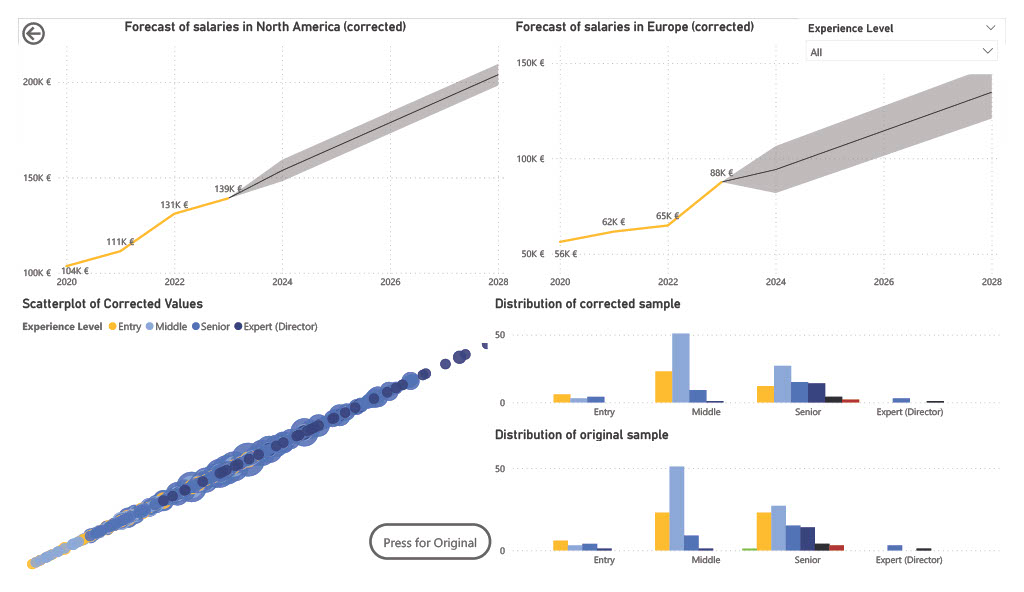

Layout of this report page (visuals, bound fields, positions):
{"tool":"powerbi","page":{"name":"Statistical Analysis","canvas":[1280,720],"ordinal":3},"visuals":[{"type":"clusteredColumnChart","title":"Distribution of corrected sample","fields":{"Category":["Final Table.Experience Level"],"Series":["Final Table.Salary in Euro (bins)"],"Y":["CountNonNull(Final Table.Salary in Euro (bins))"]},"box":[613.3,360,666.7,168.3],"z":2000},{"type":"clusteredColumnChart","title":"Distribution of original sample","fields":{"Category":["Salaries.Experience Level"],"Series":["Salaries.Salary in Euro (bins)"],"Y":["CountNonNull(Salaries.Salary in Euro (bins))"]},"box":[612.5,528.8,666.2,191.2],"z":3000},{"type":"scatterChart","title":"Scatterplot of Corrected Values","fields":{"Category":["Final Table.Salary in Euro"],"Series":["Final Table.Experience Level"],"X":["Median(Final Table.Salary in Euro)"],"Y":["Median(Final Table.Salary in Euro)"],"Size":["CountNonNull(Final Table.Salary in Euro)"]},"box":[0,359.9,612.8,359.9],"z":4000},{"type":"lineChart","title":"Forecast of salaries in Europe (corrected)","fields":{"Y":["Avg(Final Table.Salary in Euro)"],"Category":["Date Table.Year"]},"box":[640,0,640,359.6],"z":5000},{"type":"lineChart","title":"Forecast of salaries in North America (corrected)","fields":{"Category":["Date Table.Year"],"Y":["Avg(Final Table.Salary in Euro)"]},"box":[0,0,640,359.6],"z":6000},{"type":"actionButton","box":[0,0,100.6,38.9],"z":7000},{"type":"slicer","fields":{"Values":["Sort Order.Experience Level"]},"box":[1010.6,0,269.4,72],"z":8000},{"type":"actionButton","title":"Button to Original","box":[454.8,654.8,158.3,47],"z":10000}]}

Visuals, with their boxes in screenshot pixels (x1, y1, x2, y2), scaled from the page's 1280x720 canvas onto the 1024x592 screenshot:
"Distribution of corrected sample" clusteredColumnChart: [491,296,1023,434]
"Distribution of original sample" clusteredColumnChart: [490,435,1023,591]
"Scatterplot of Corrected Values" scatterChart: [0,296,490,591]
"Forecast of salaries in Europe (corrected)" lineChart: [512,0,1023,296]
"Forecast of salaries in North America (corrected)" lineChart: [0,0,512,296]
actionButton: [0,0,80,32]
slicer - Sort Order.Experience Level: [808,0,1023,59]
"Button to Original" actionButton: [364,538,490,577]
